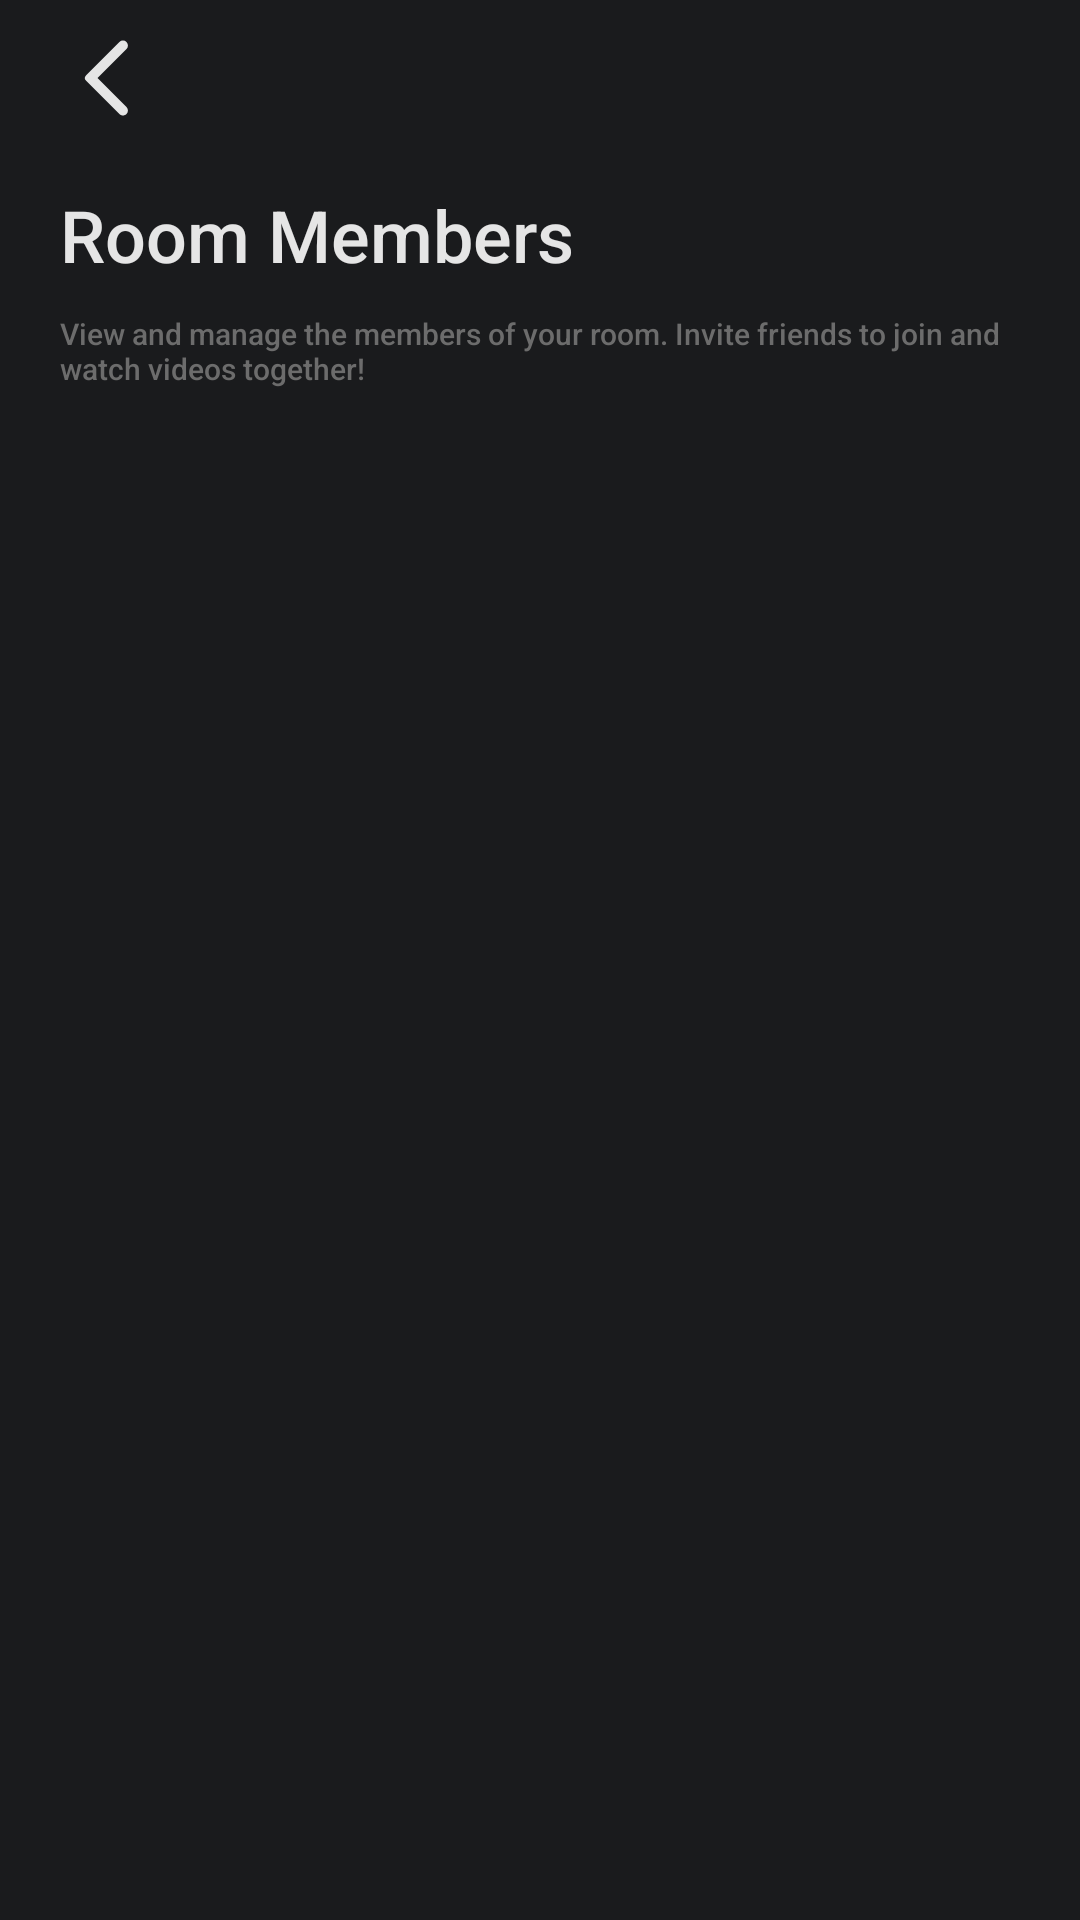

Icons on this 1080w x 1920h Android screen, each with its box as (x1, y1, x2, y2):
left arrow: (84, 40, 128, 116)
